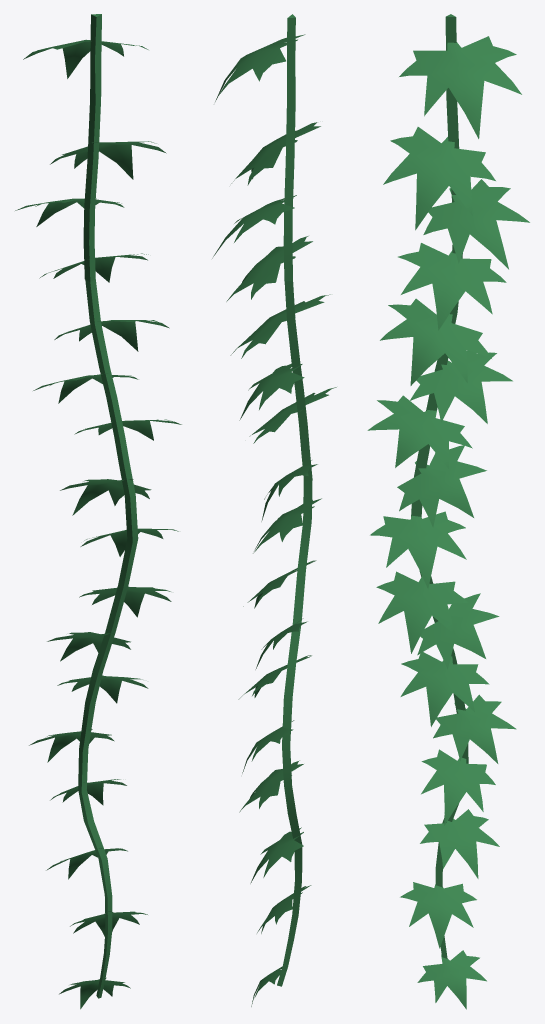
The model's file is vine_curved_C_alangium.fbx.
3 views of the same model, side by side, from view 1: azimuth 90°, elevation 25°; view 2: azimuth 150°, elevation 25°; view 3: azimuth 270°, elevation 25° (orthographic). The views are drawn at different scales.
Visible parts, largest first — view 1: vine_curved_C_alangium_root, vine_alangium_A_leaf_B500, vine_alangium_A_leaf_B510, vine_alangium_A_leaf_B496, vine_alangium_A_leaf_B, vine_alangium_A_leaf_B506, vine_alangium_A_leaf_B507, vine_alangium_A_leaf_B512, vine_alangium_A_leaf_B505, vine_alangium_A_leaf_B498, vine_alangium_A_leaf_B495, vine_alangium_A_leaf_B508 (+6 smaller); view 2: vine_curved_C_alangium_root, vine_alangium_A_leaf_B498, vine_alangium_A_leaf_B496, vine_alangium_A_leaf_B493, vine_alangium_A_leaf_B500, vine_alangium_A_leaf_B, vine_alangium_A_leaf_B495, vine_alangium_A_leaf_B501, vine_alangium_A_leaf_B502, vine_alangium_A_leaf_B504, vine_alangium_A_leaf_B497, vine_alangium_A_leaf_B510 (+5 smaller); view 3: vine_alangium_A_leaf_B496, vine_alangium_A_leaf_B500, vine_alangium_A_leaf_B, vine_alangium_A_leaf_B498, vine_alangium_A_leaf_B495, vine_alangium_A_leaf_B497, vine_alangium_A_leaf_B506, vine_alangium_A_leaf_B502, vine_alangium_A_leaf_B493, vine_alangium_A_leaf_B510, vine_alangium_A_leaf_B512, vine_curved_C_alangium_root (+6 smaller).
Boxes of the visible parts, box(x1,y1,x2,y2) form: vine_curved_C_alangium_root: box(78, 14, 138, 998); vine_alangium_A_leaf_B500: box(50, 141, 166, 179); vine_alangium_A_leaf_B510: box(60, 479, 151, 515); vine_alangium_A_leaf_B496: box(23, 39, 148, 78); vine_alangium_A_leaf_B: box(54, 320, 169, 351); vine_alangium_A_leaf_B506: box(79, 586, 171, 617); vine_alangium_A_leaf_B507: box(47, 632, 130, 661); vine_alangium_A_leaf_B512: box(57, 675, 148, 703); vine_alangium_A_leaf_B505: box(29, 729, 114, 762); vine_alangium_A_leaf_B498: box(39, 253, 148, 282); vine_alangium_A_leaf_B495: box(15, 198, 124, 226); vine_alangium_A_leaf_B508: box(59, 977, 130, 1009); vine_curved_C_alangium_root: box(277, 14, 312, 986); vine_alangium_A_leaf_B498: box(226, 236, 312, 301); vine_alangium_A_leaf_B496: box(215, 34, 305, 101); vine_alangium_A_leaf_B493: box(239, 363, 304, 420); vine_alangium_A_leaf_B500: box(231, 122, 320, 185); vine_alangium_A_leaf_B: box(230, 294, 330, 358); vine_alangium_A_leaf_B495: box(212, 195, 296, 258); vine_alangium_A_leaf_B501: box(250, 827, 303, 883); vine_alangium_A_leaf_B502: box(253, 498, 321, 553); vine_alangium_A_leaf_B504: box(239, 760, 303, 812); vine_alangium_A_leaf_B497: box(249, 387, 336, 443); vine_alangium_A_leaf_B510: box(261, 460, 317, 521); vine_alangium_A_leaf_B496: box(399, 36, 521, 138); vine_alangium_A_leaf_B500: box(383, 127, 495, 230); vine_alangium_A_leaf_B: box(380, 298, 491, 385); vine_alangium_A_leaf_B498: box(398, 243, 506, 330); vine_alangium_A_leaf_B495: box(423, 179, 529, 269); vine_alangium_A_leaf_B497: box(367, 395, 472, 468); vine_alangium_A_leaf_B506: box(376, 571, 467, 653); vine_alangium_A_leaf_B502: box(370, 511, 466, 588); vine_alangium_A_leaf_B493: box(410, 350, 512, 423); vine_alangium_A_leaf_B510: box(397, 445, 486, 527); vine_alangium_A_leaf_B512: box(400, 652, 489, 726); vine_curved_C_alangium_root: box(411, 14, 468, 958).
Bounding box in the file's own units: 26.3 × 283 × 42.86.
